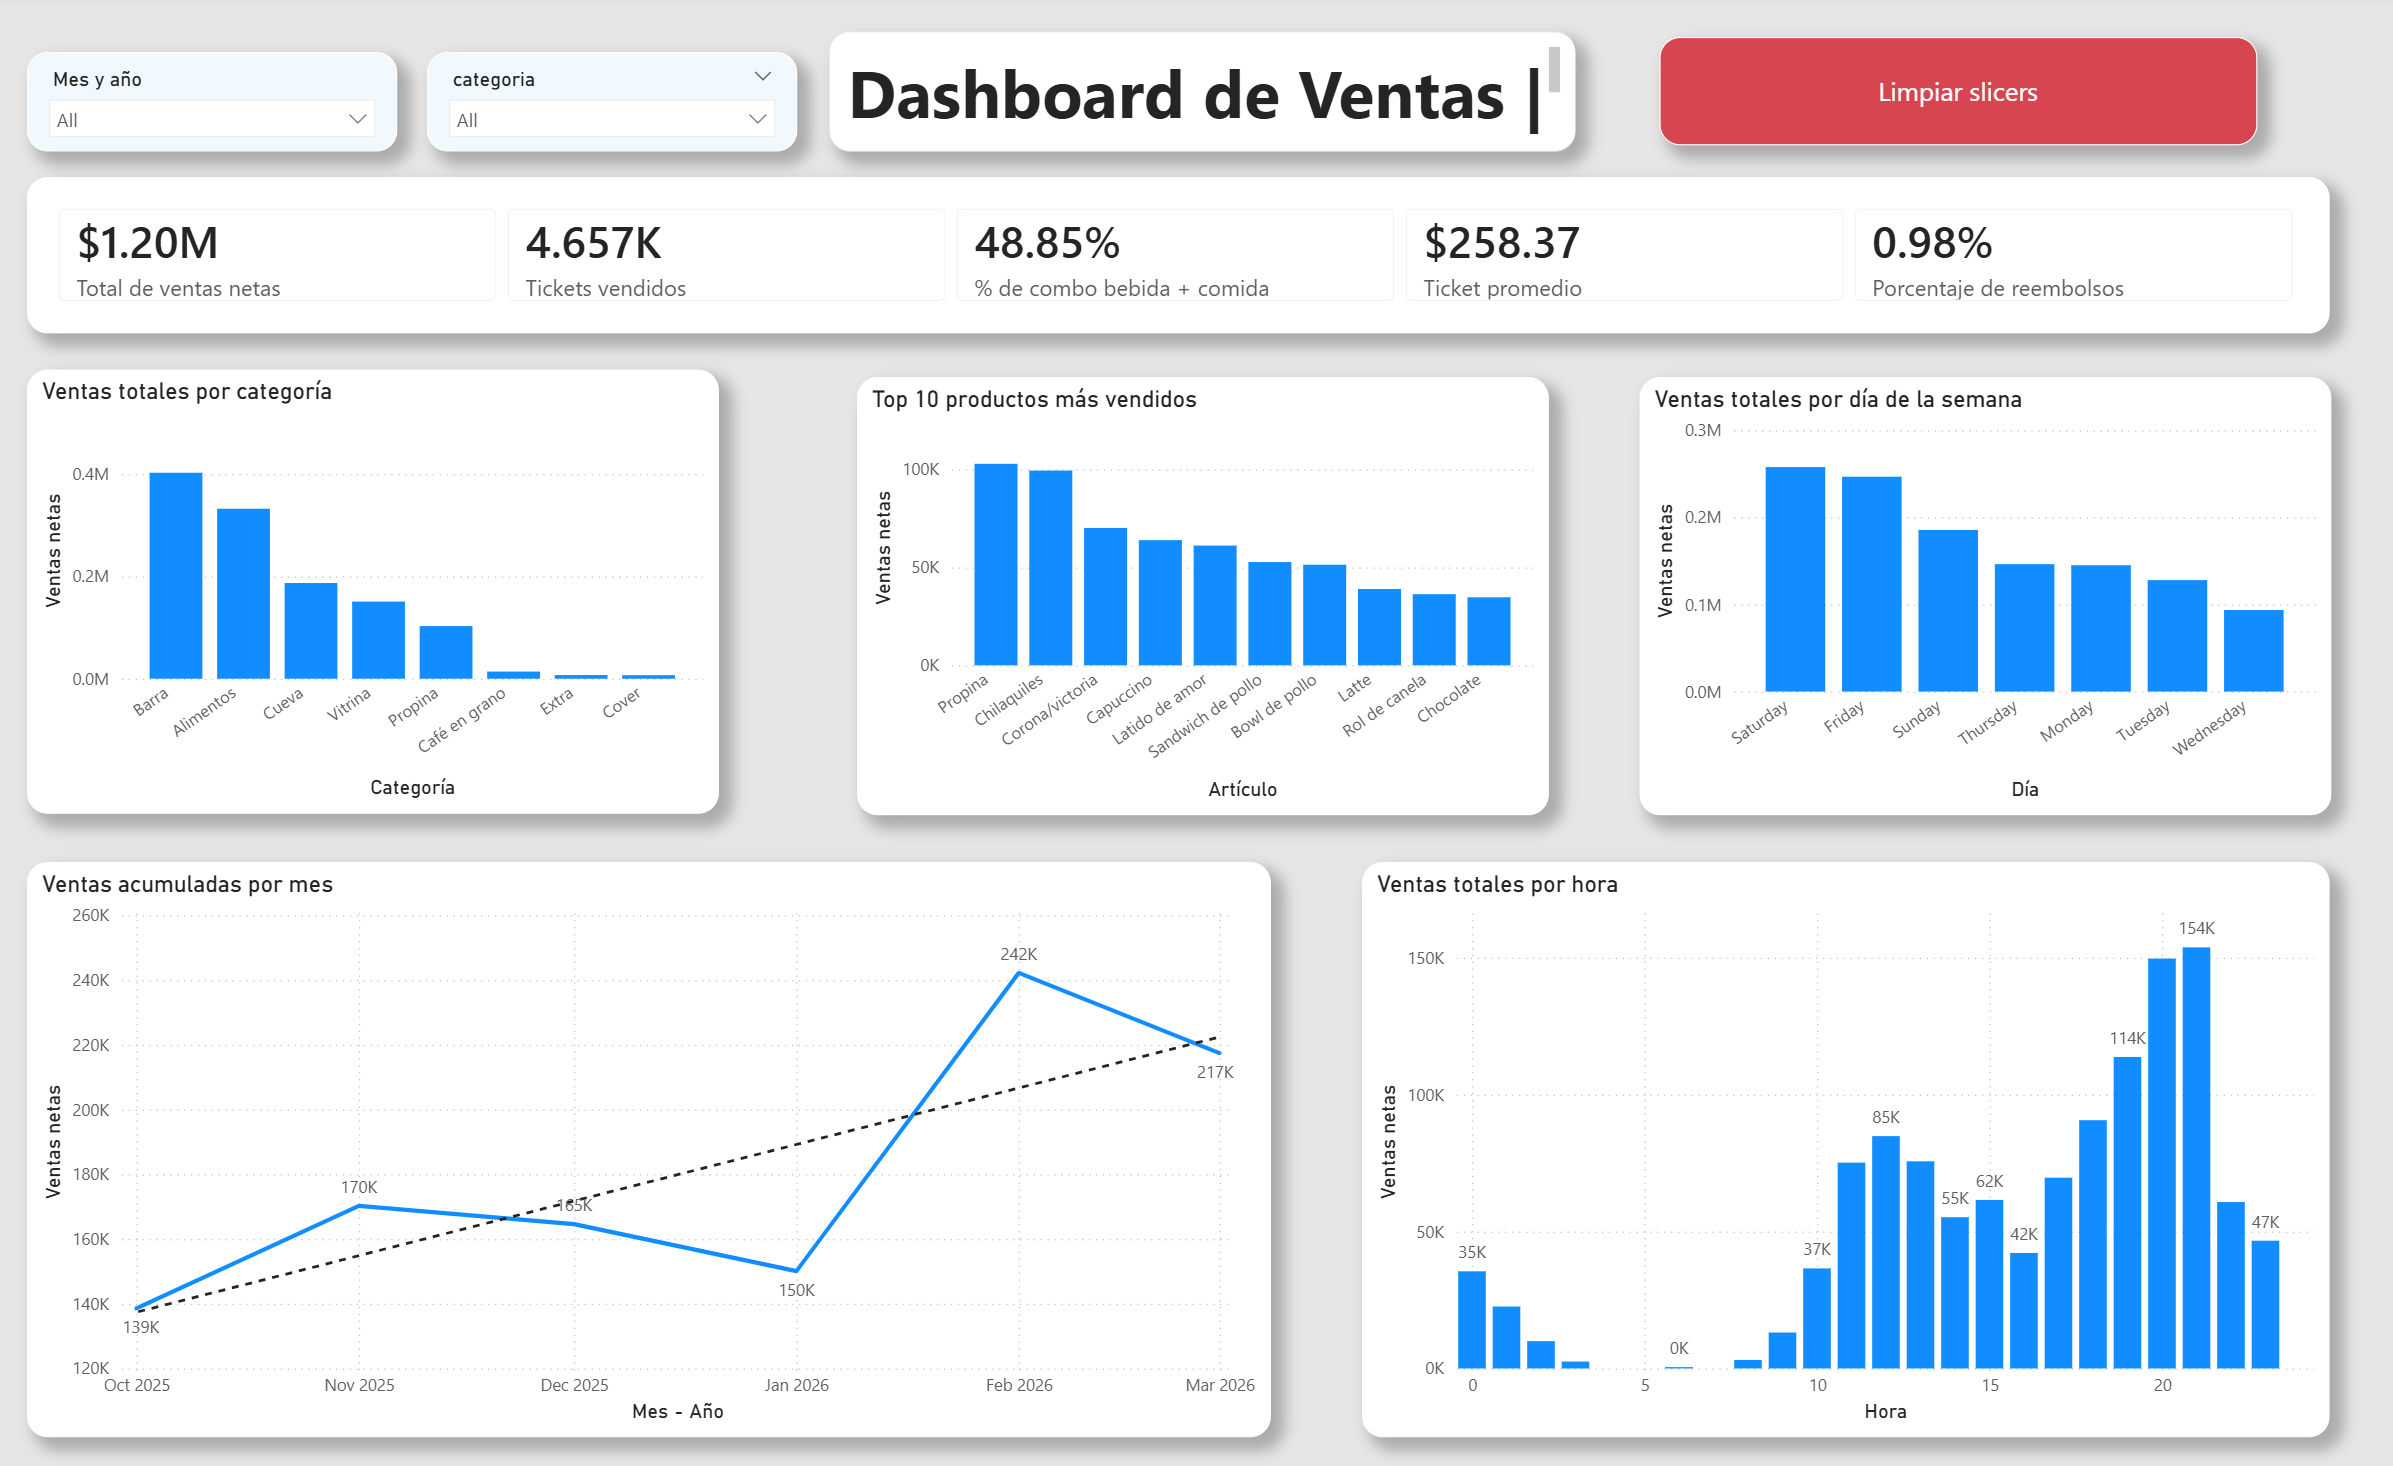

The dashboard page shown, as its layout file describes it:
{"tool":"powerbi","page":{"name":"Page 1","canvas":[1920,1080],"ordinal":0},"visuals":[{"type":"cardVisual","fields":{"Data":["Sum(FactVentas.ventas_netas)","FactVentas.Tickets Venta","FactVentas.% Combo Bebida Comida","FactVentas.TicketPromedio","FactVentas.PorcentajeReembolsos"]},"box":[109.2,133.9,1667,113.3],"z":0},{"type":"clusteredColumnChart","title":"Ventas totales por categoría","fields":{"Category":["FactVentas.categoria"],"Y":["Sum(FactVentas.ventas_netas)"]},"box":[109.2,274.1,500.7,321.4],"z":1000},{"type":"clusteredColumnChart","title":"Top 10 productos más vendidos","fields":{"Category":["FactVentas.articulo"],"Y":["Sum(FactVentas.ventas_netas)"]},"box":[709.6,278.2,500.7,317.3],"z":2000},{"type":"clusteredColumnChart","title":"Ventas totales por día de la semana","fields":{"Category":["FactVentas.Dia"],"Y":["Sum(FactVentas.ventas_netas)"]},"box":[1275.5,278.2,500.7,317.3],"z":3000},{"type":"lineChart","title":"Ventas acumuladas por mes","fields":{"Category":["FactVentas.InicioMes"],"Y":["Sum(FactVentas.ventas_netas)"]},"box":[109.2,630.5,900.5,416.2],"z":4000},{"type":"clusteredColumnChart","title":"Ventas totales por hora","fields":{"Category":["FactVentas.Hora"],"Y":["Sum(FactVentas.ventas_netas)"]},"box":[1075.6,630.5,700.6,416.2],"z":5000},{"type":"textbox","box":[690.1,28.8,539.9,86.5],"z":6000},{"type":"slicer","fields":{"Values":["FactVentas.InicioMes"]},"box":[109.2,43.3,267.9,72.1],"z":7000},{"type":"slicer","fields":{"Values":["FactVentas.categoria"]},"box":[397.7,43.3,267.9,72.1],"z":8000},{"type":"actionButton","box":[1289.9,33,432.7,78.3],"z":9000}]}

Visuals, with their boxes on the page's 1920x1080 design canvas (x1, y1, x2, y2). These are canvas units, not pixel positions in the 2393x1466 screenshot, which may show the page scaled, cropped or inside an application window:
cardVisual - Sum(FactVentas.ventas_netas) x FactVentas.Tickets Venta: l=109, t=134, r=1776, b=247
"Ventas totales por categoría" clusteredColumnChart: l=109, t=274, r=610, b=596
"Top 10 productos más vendidos" clusteredColumnChart: l=710, t=278, r=1210, b=596
"Ventas totales por día de la semana" clusteredColumnChart: l=1276, t=278, r=1776, b=596
"Ventas acumuladas por mes" lineChart: l=109, t=630, r=1010, b=1047
"Ventas totales por hora" clusteredColumnChart: l=1076, t=630, r=1776, b=1047
textbox: l=690, t=29, r=1230, b=115
slicer - FactVentas.InicioMes: l=109, t=43, r=377, b=115
slicer - FactVentas.categoria: l=398, t=43, r=666, b=115
actionButton: l=1290, t=33, r=1723, b=111
